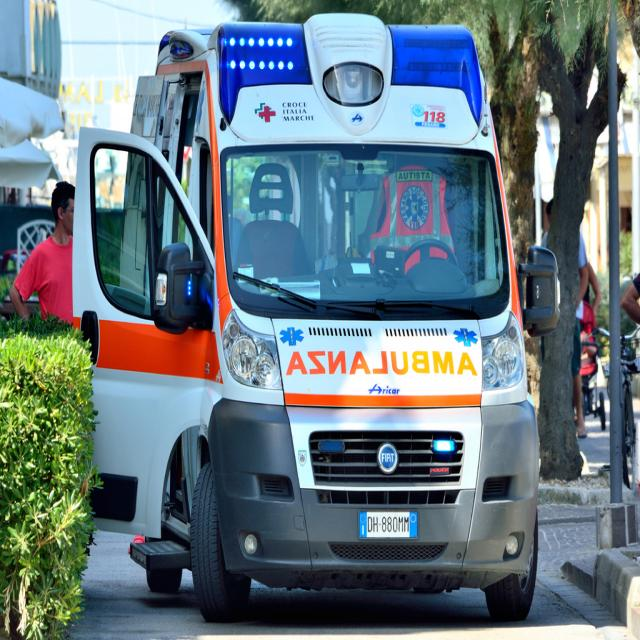Ambulance: (71, 11, 540, 622)
